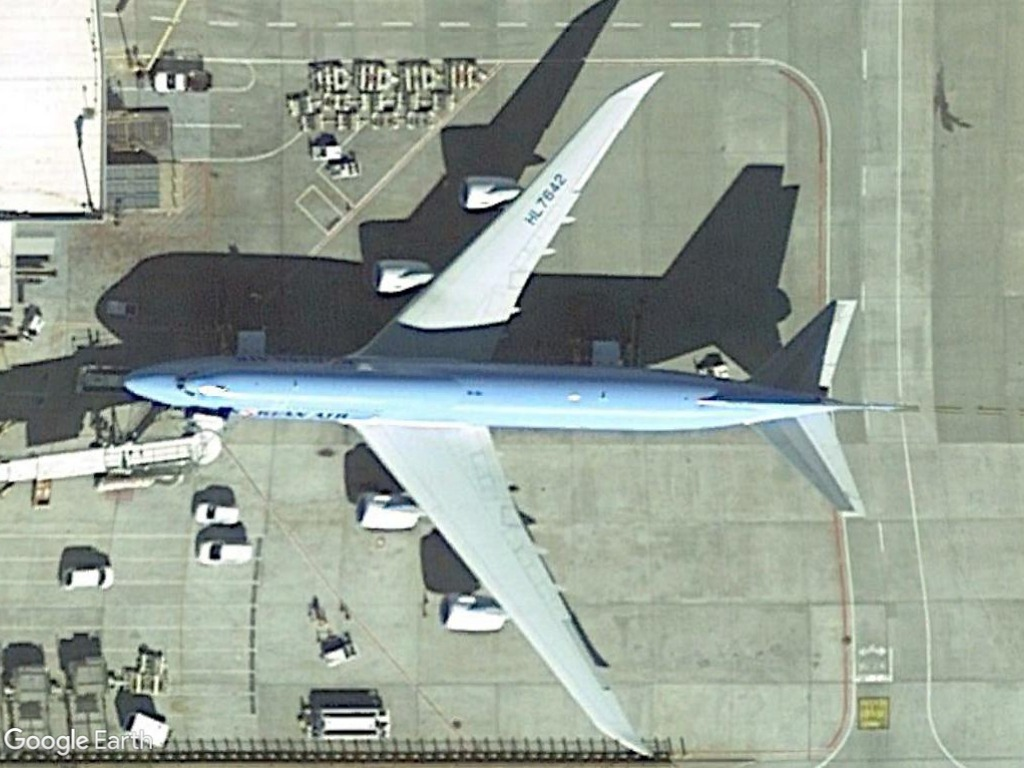airliner: (114, 61, 888, 744)
van: (192, 536, 261, 572), (188, 497, 249, 531), (58, 562, 121, 594)
